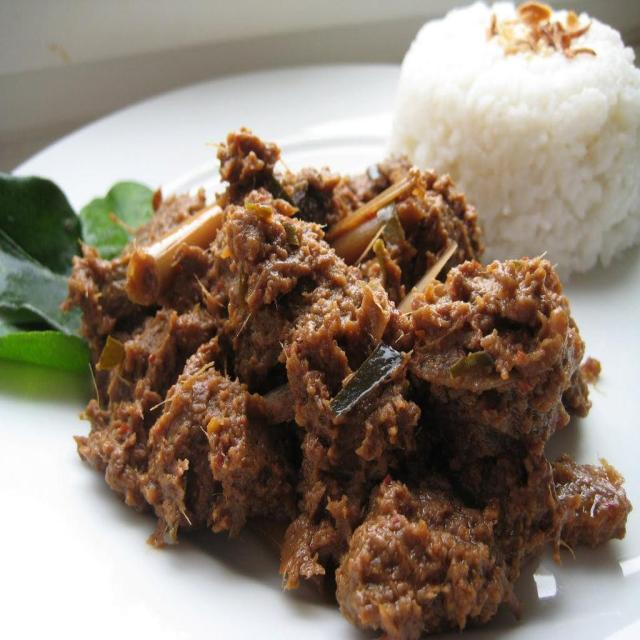Rendang: (88, 118, 638, 633)
